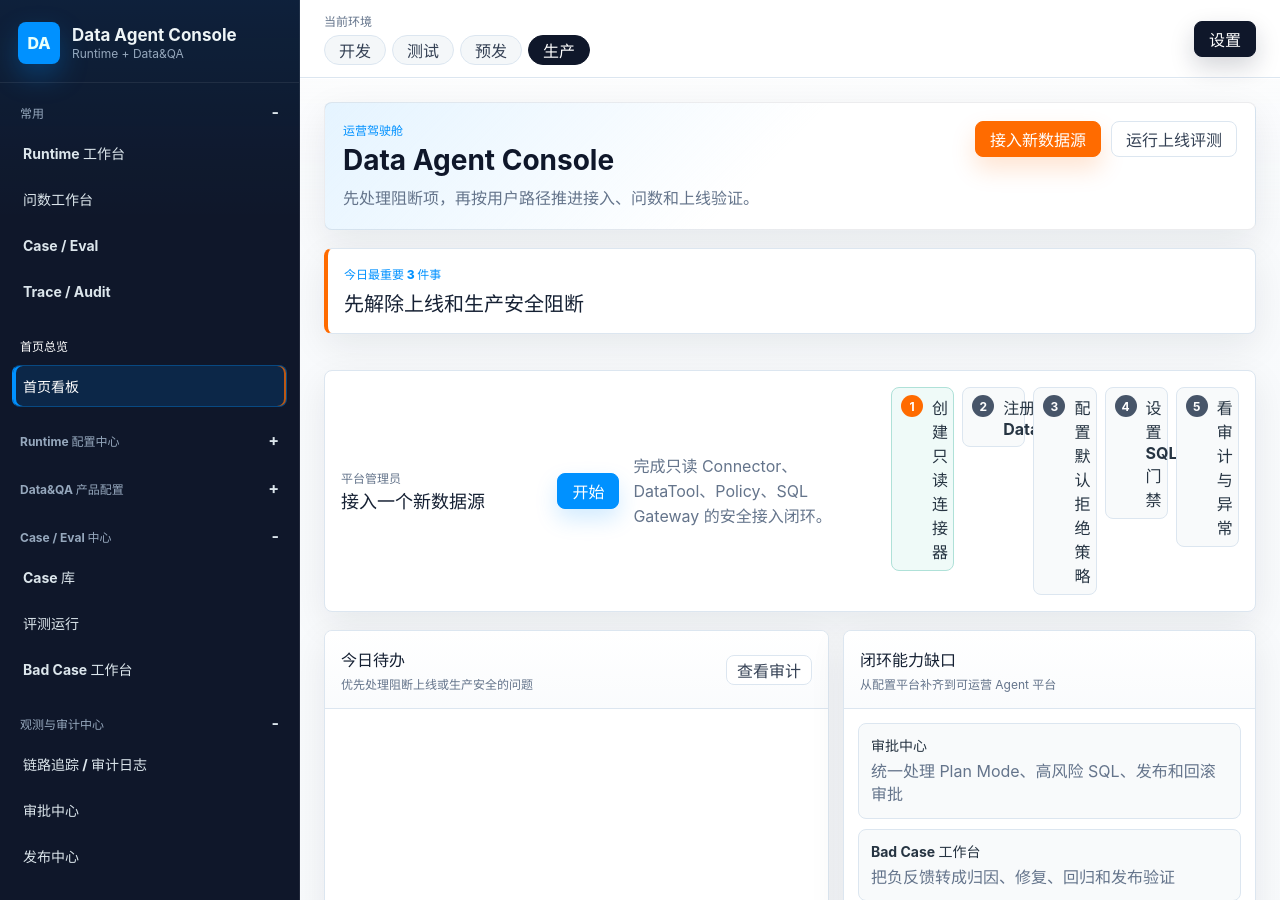
it: Data Agent Console MVP › keeps observability pages read-only
This screenshot has width=1280, height=900.
Click the button "链路追踪 / 审计日志" at point(150, 764), box 12,743 -> 287,785
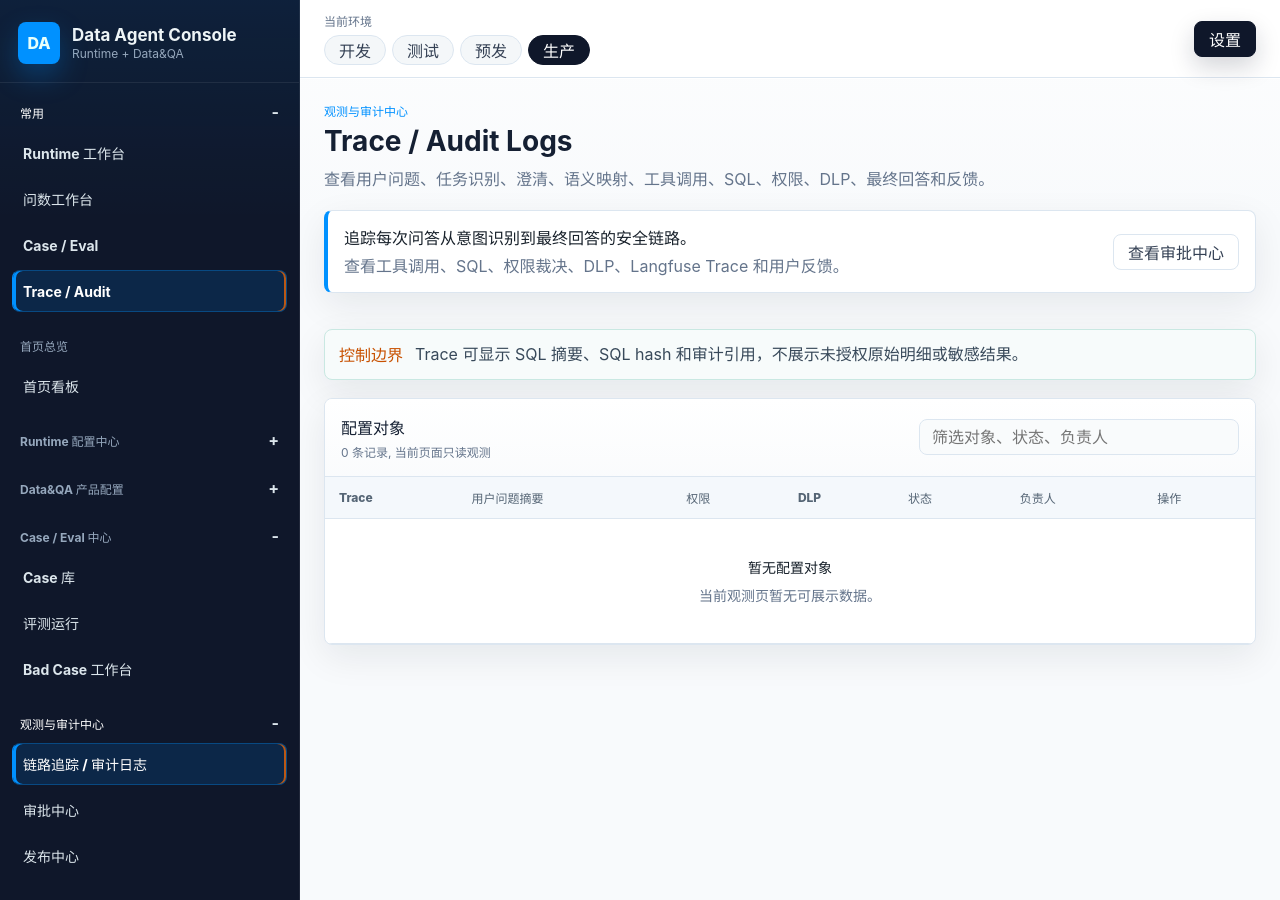
Now the heading "Trace / Audit Logs" is shown, box 324,124 -> 572,158
Now the text "当前观测页暂无可展示数据。" is shown, box 699,585 -> 881,605
